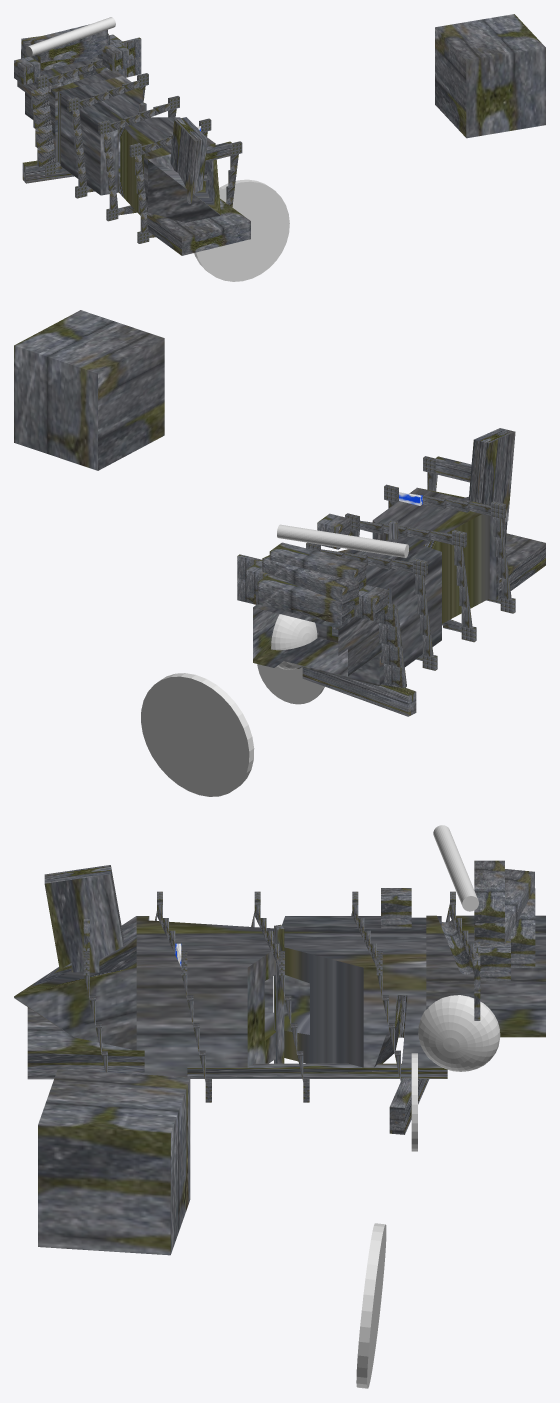
Rendered from payload2.glb.
3 views of the same model, one above another, from view 1: azimuth 30°, elevation 25°; view 2: azimuth 150°, elevation 25°; view 3: azimuth 270°, elevation 25° (orthographic). The views are drawn at different scales.
Visible parts, largest first — view 1: Cube.6680, Cube.6451, Cylinder.115, Cube.6682, Cube.6683, Cube.6685, Cube.6661, Cube.6666, Cylinder.113, Cube.6675, Cube.6681, Cube.6673 (+7 smaller); view 2: Cube.6680, Cube.6451, Cylinder.115, Cube.6661, Cube.6685, Cube.6671, Cube.6681, Cube.6687, Cube.6666, Cylinder.113, Cube.6683, Cylinder.114 (+4 smaller); view 3: Cube.6451, Cube.6680, Cube.6661, Cube.6682, Cube.6685, Sphere.056, Cube.6683, Cube.6679, Cylinder.115, Cube.6687, Cube.6666, Cylinder.113 (+6 smaller).
Boxes of the visible parts, left/top/right/bottom form: Cube.6680: left=435, top=14, right=545, bottom=138; Cube.6451: left=51, top=76, right=214, bottom=215; Cylinder.115: left=194, top=179, right=289, bottom=281; Cube.6682: left=148, top=143, right=220, bottom=222; Cube.6683: left=146, top=198, right=250, bottom=255; Cube.6685: left=170, top=117, right=207, bottom=203; Cube.6661: left=17, top=57, right=123, bottom=136; Cube.6666: left=30, top=24, right=107, bottom=63; Cylinder.113: left=25, top=17, right=115, bottom=56; Cube.6675: left=102, top=43, right=129, bottom=71; Cube.6681: left=22, top=160, right=73, bottom=183; Cube.6673: left=14, top=56, right=40, bottom=84; Cube.6680: left=14, top=310, right=164, bottom=470; Cube.6451: left=301, top=488, right=498, bottom=685; Cylinder.115: left=141, top=673, right=254, bottom=796; Cube.6661: left=253, top=604, right=381, bottom=676; Cube.6685: left=468, top=428, right=515, bottom=522; Cube.6671: left=257, top=574, right=354, bottom=624; Cube.6681: left=302, top=667, right=416, bottom=716; Cube.6687: left=262, top=555, right=358, bottom=611; Cube.6666: left=269, top=542, right=366, bottom=590; Cylinder.113: left=277, top=524, right=408, bottom=557; Cube.6683: left=498, top=533, right=545, bottom=599; Cylinder.114: left=257, top=664, right=324, bottom=704; Cube.6451: left=136, top=916, right=441, bottom=1077; Cube.6680: left=38, top=1069, right=190, bottom=1255; Cube.6661: left=426, top=915, right=545, bottom=1037; Cube.6682: left=14, top=916, right=136, bottom=1050; Cube.6685: left=44, top=865, right=123, bottom=972; Sphere.056: left=418, top=995, right=500, bottom=1071; Cube.6683: left=27, top=1007, right=144, bottom=1079; Cube.6679: left=187, top=1063, right=447, bottom=1078; Cylinder.115: left=356, top=1223, right=386, bottom=1388; Cube.6687: left=474, top=869, right=534, bottom=944; Cube.6666: left=474, top=860, right=504, bottom=939; Cylinder.113: left=433, top=825, right=478, bottom=911.
Size of the model in its own units: 2404 by 1487 by 1743.
4 materials, 4 textured.
